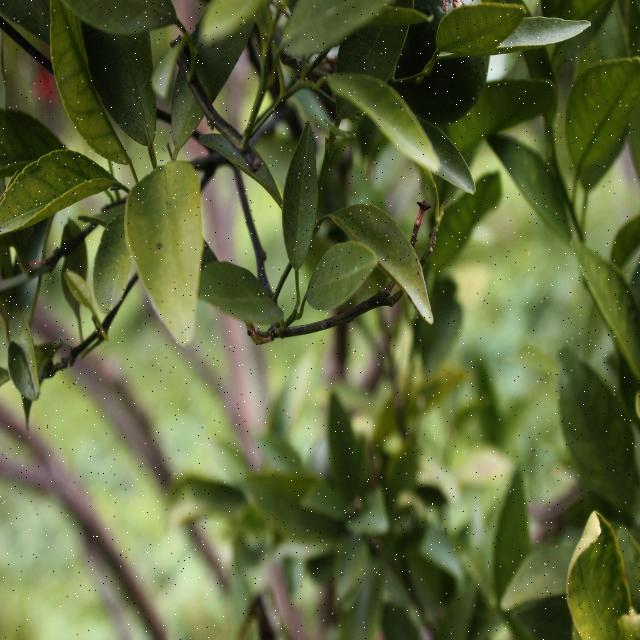blackspot: (355, 210, 424, 300), (283, 135, 317, 258), (145, 204, 185, 280), (216, 140, 226, 154)
